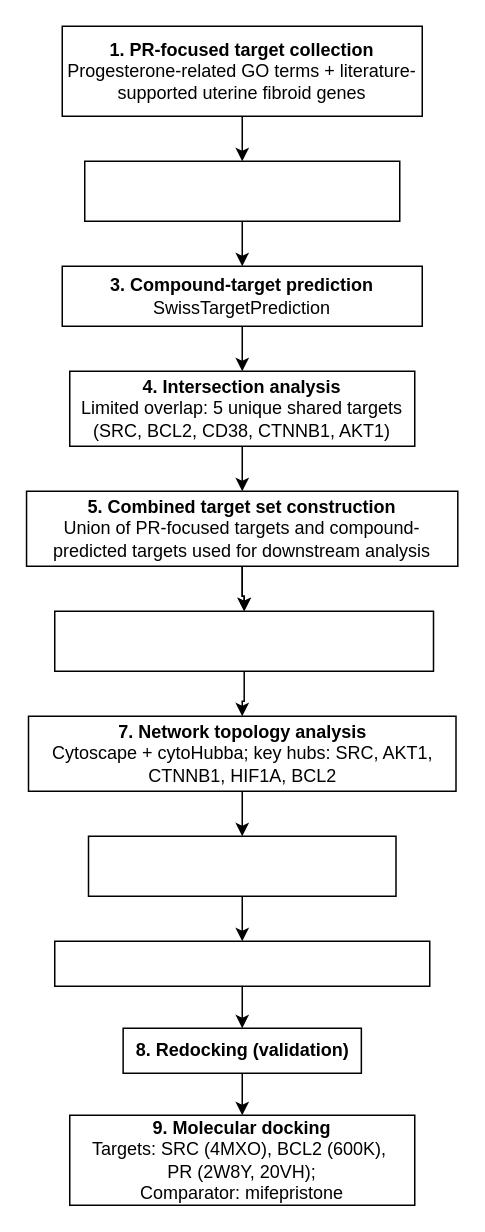
Image size: 485x1232. Some labels were removed from this diagram. The box of each missing label's shape, as (x1, y1, x2, y2) in pixels:
2. Flavonoid selection: (83, 160, 400, 221)
6. Functional enrichment analysis ShinyGO: (87, 835, 396, 896)
6. Protein-Protein Interaction analysis STRING Database: (53, 610, 434, 671)
7. Integrated network visualization: (53, 940, 430, 986)
